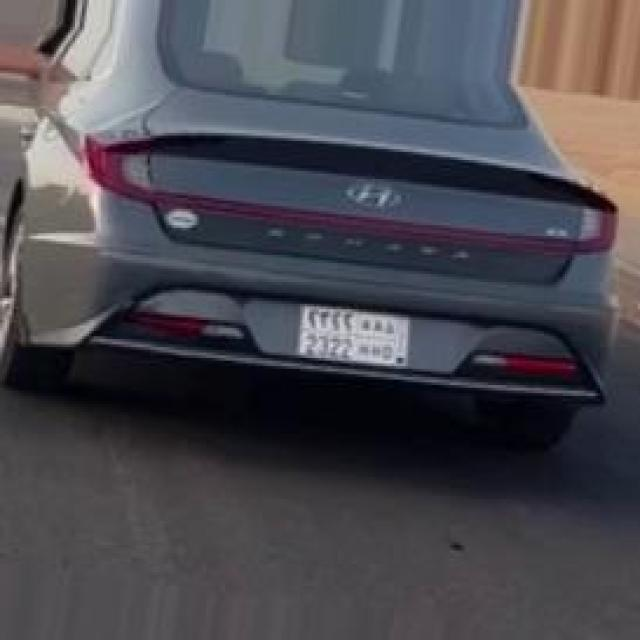Car-plate: (292, 286, 420, 382)
